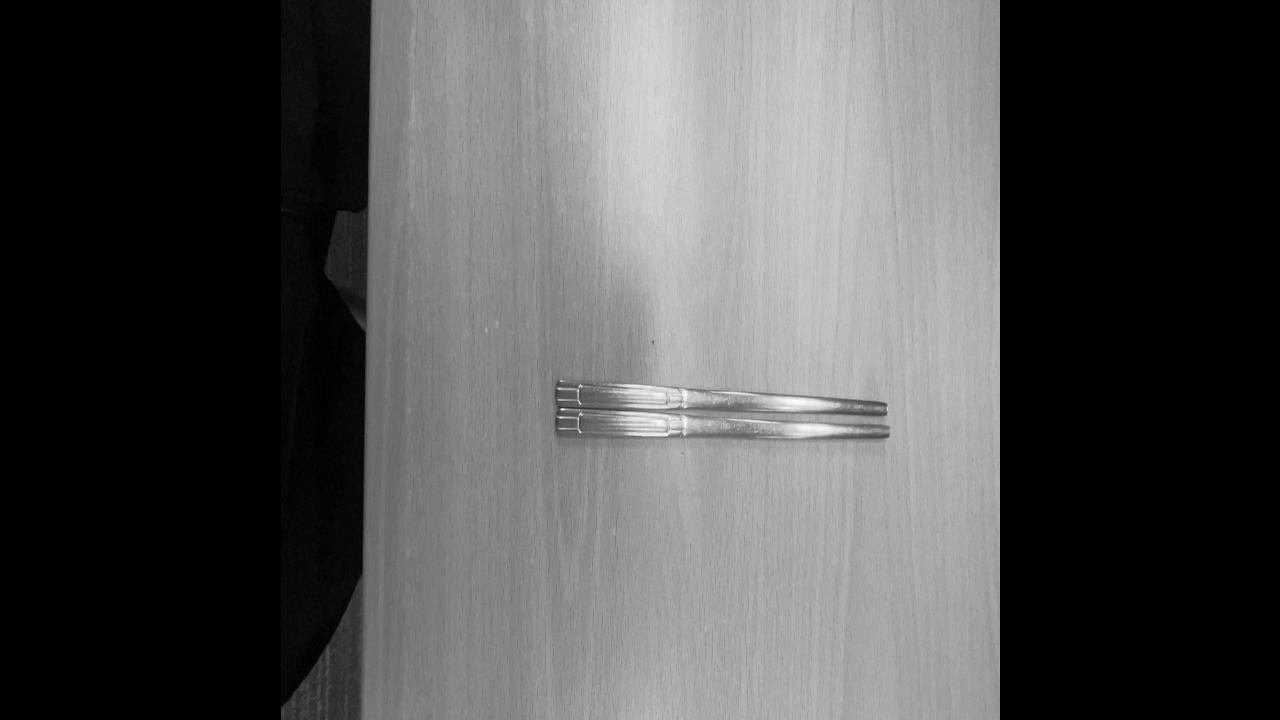chopstick: (551, 372, 891, 452)
